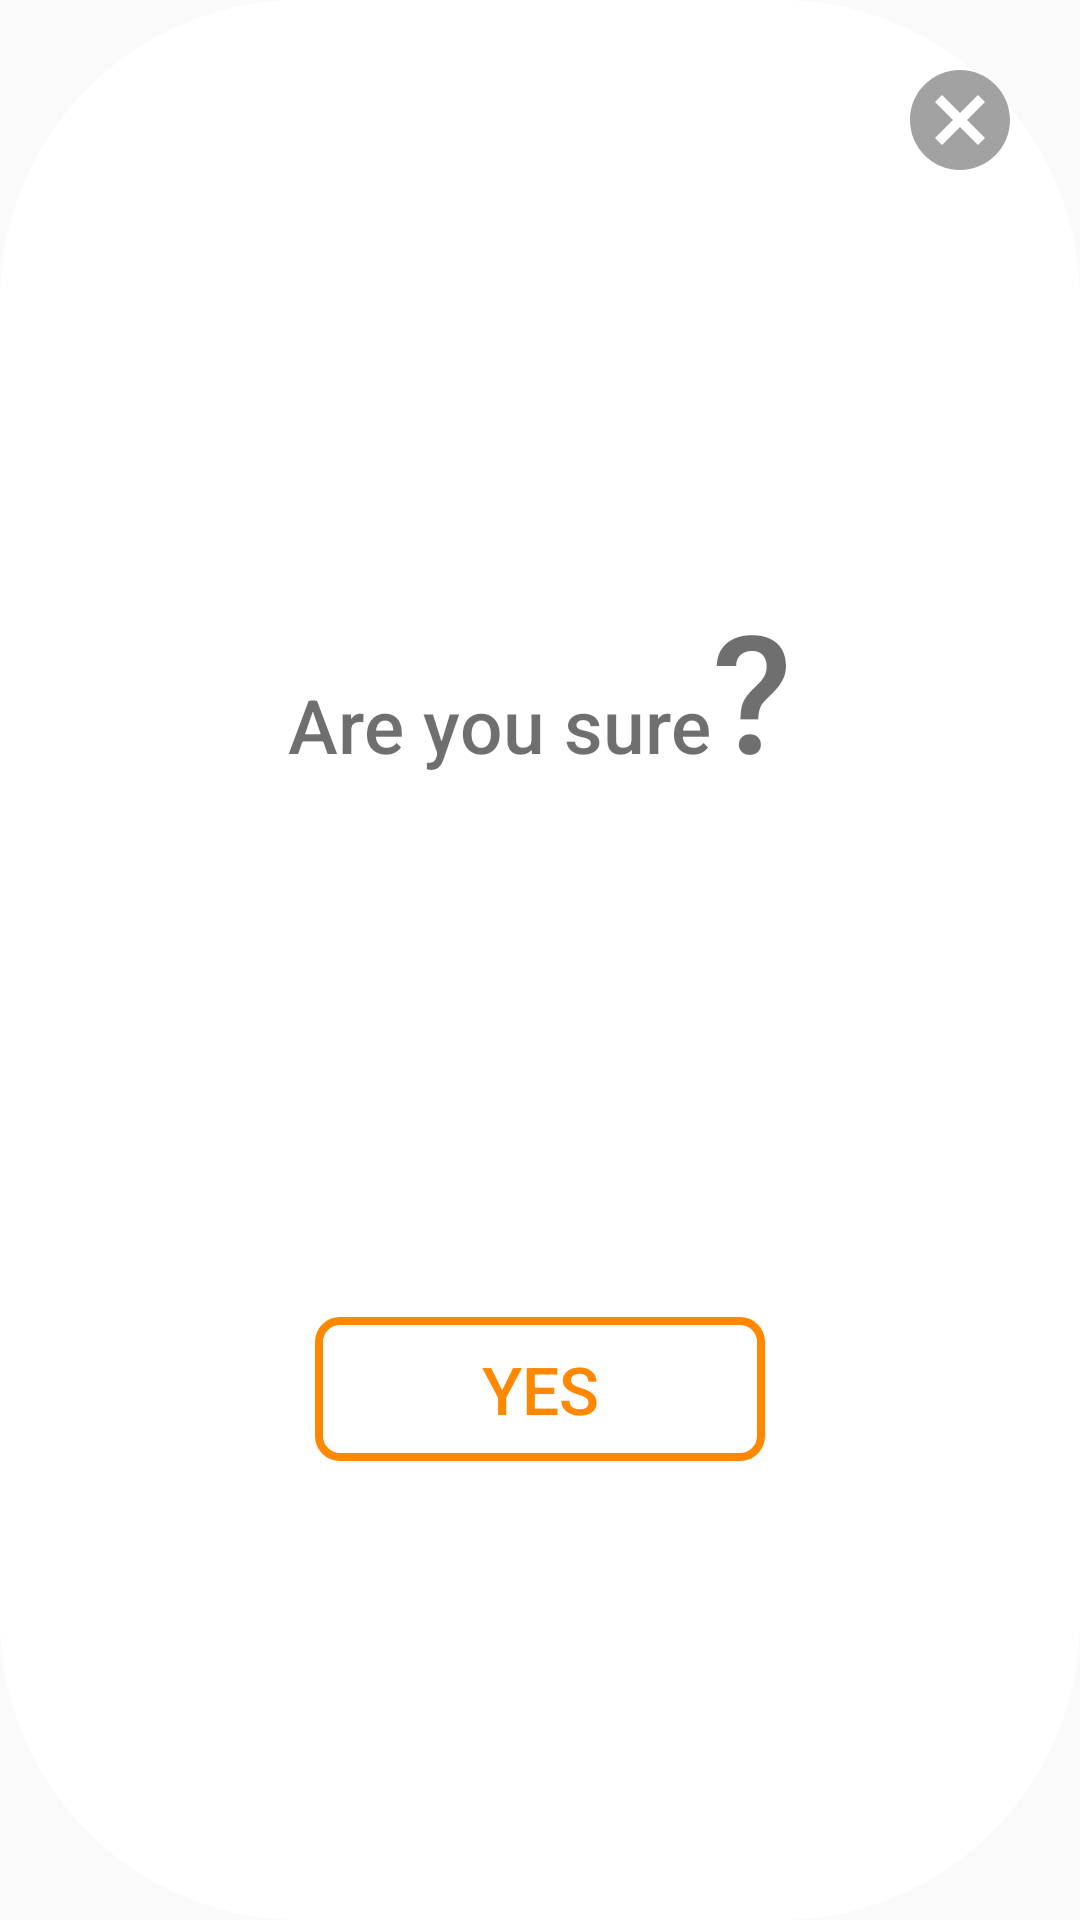

Where icons sit on this 1080px x 1920px app screen, as (x1, y1, x2, y2):
cancel: (910, 70, 1010, 170)
